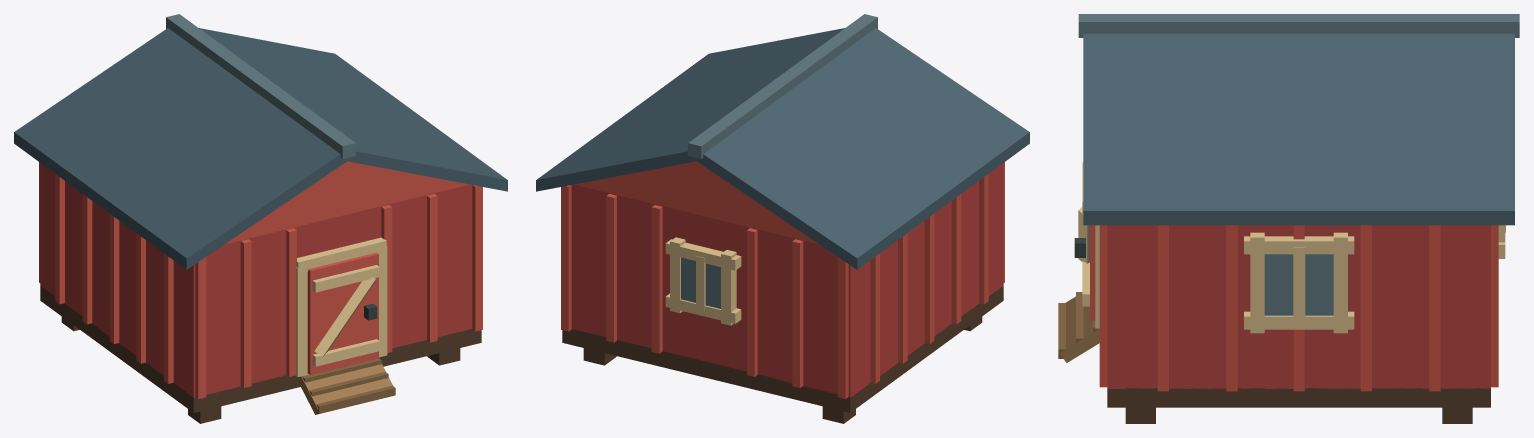
The model's file is coop.glb.
The picture shows the model from 3 angles, left to right: view 1: azimuth 30°, elevation 25°; view 2: azimuth 150°, elevation 25°; view 3: azimuth 270°, elevation 25°; orthographic projection. The views are drawn at different scales.
Visible parts, largest first — view 1: Coop_slate_roof_left, Coop_slate_roof_right, Coop_side_wall, Coop_front_wall, Coop_front_wall.001, door, Coop_red_gable, Coop_raised_floor, Coop_roof_ridge, Coop_front_header, Coop_vertical_batten.002, Chicken_ramp (+17 smaller); view 2: Coop_slate_roof_left, Coop_back_wall, Coop_slate_roof_right, Coop_side_wall, Coop_raised_floor, Coop_red_gable.001, Coop_roof_ridge, Coop_vertical_batten.003, Coop_vertical_batten.007, Coop_vertical_batten.001, Coop_vertical_batten.005, Coop_vertical_batten.009 (+14 smaller); view 3: Coop_slate_roof_right, Coop_side_wall.001, Coop_roof_ridge, Coop_raised_floor, Coop_side_window_light, Coop_front_wall.001, Coop_side_batten.006, Coop_side_batten.009, Coop_side_batten.005, Coop_side_batten.008, Coop_side_window_sill.001, door (+11 smaller).
Boxes of the visible parts, x1=… form: Coop_slate_roof_left: x1=14, y1=28, x2=347, y2=269; Coop_slate_roof_right: x1=199, y1=28, x2=507, y2=191; Coop_side_wall: x1=40, y1=163, x2=206, y2=397; Coop_front_wall: x1=186, y1=225, x2=302, y2=397; Coop_front_wall.001: x1=373, y1=185, x2=471, y2=348; door: x1=307, y1=252, x2=379, y2=374; Coop_red_gable: x1=225, y1=161, x2=469, y2=244; Coop_raised_floor: x1=40, y1=286, x2=481, y2=412; Coop_roof_ridge: x1=166, y1=14, x2=355, y2=158; Coop_front_header: x1=302, y1=208, x2=372, y2=256; Coop_vertical_batten.002: x1=240, y1=239, x2=251, y2=387; Chicken_ramp: x1=299, y1=364, x2=392, y2=414; Coop_slate_roof_left: x1=696, y1=28, x2=1029, y2=269; Coop_back_wall: x1=575, y1=185, x2=836, y2=394; Coop_slate_roof_right: x1=536, y1=28, x2=844, y2=191; Coop_side_wall: x1=837, y1=168, x2=999, y2=397; Coop_raised_floor: x1=562, y1=286, x2=1003, y2=412; Coop_red_gable.001: x1=574, y1=161, x2=818, y2=244; Coop_roof_ridge: x1=688, y1=14, x2=877, y2=158; Coop_vertical_batten.003: x1=792, y1=239, x2=803, y2=387; Coop_vertical_batten.007: x1=651, y1=205, x2=662, y2=353; Coop_vertical_batten.001: x1=837, y1=257, x2=848, y2=398; Coop_vertical_batten.005: x1=747, y1=228, x2=757, y2=376; Coop_vertical_batten.009: x1=606, y1=194, x2=616, y2=342; Coop_slate_roof_right: x1=1083, y1=33, x2=1514, y2=225; Coop_side_wall.001: x1=1107, y1=225, x2=1490, y2=388; Coop_roof_ridge: x1=1078, y1=14, x2=1519, y2=37; Coop_raised_floor: x1=1107, y1=387, x2=1490, y2=407; Coop_side_window_light: x1=1264, y1=254, x2=1333, y2=315; Coop_front_wall.001: x1=1107, y1=225, x2=1126, y2=388; Coop_side_batten.006: x1=1226, y1=225, x2=1237, y2=391; Coop_side_batten.009: x1=1429, y1=225, x2=1440, y2=391; Coop_side_batten.005: x1=1157, y1=225, x2=1168, y2=391; Coop_side_batten.008: x1=1360, y1=225, x2=1371, y2=391; Coop_side_window_sill.001: x1=1244, y1=236, x2=1354, y2=254; door: x1=1074, y1=162, x2=1095, y2=320.
Bounding box in the file's own units: 2.9 × 2.26 × 2.89.
